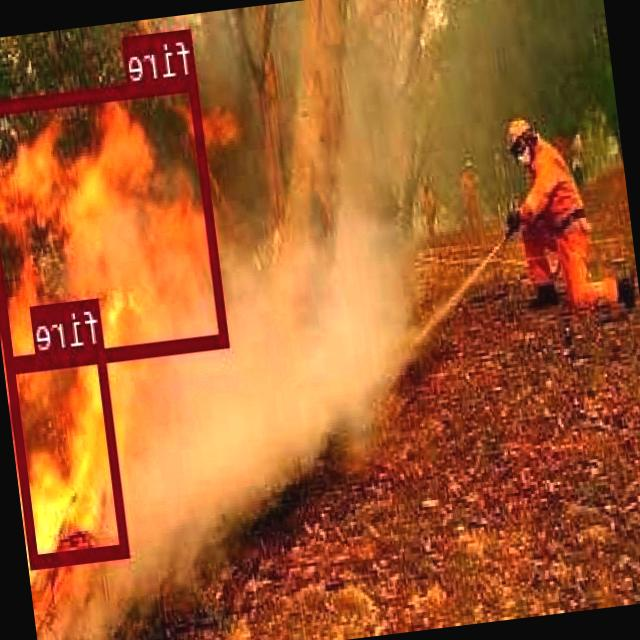fire: (0, 74, 230, 370), (7, 343, 132, 565)
